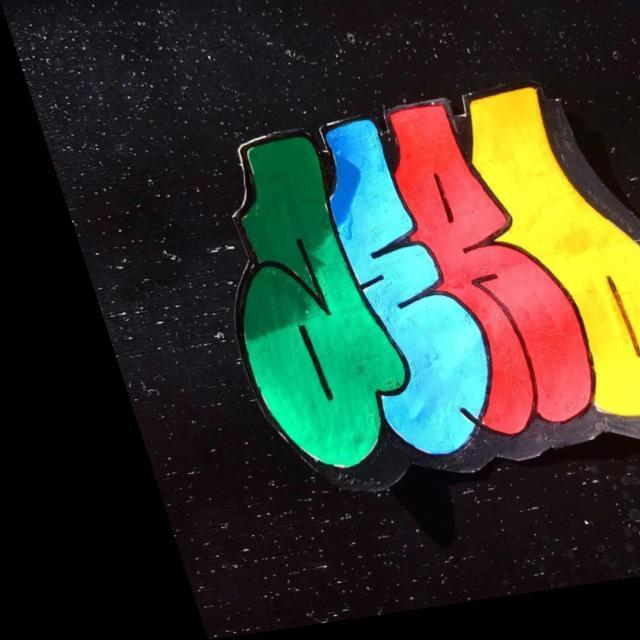-: (119, 19, 640, 529)
